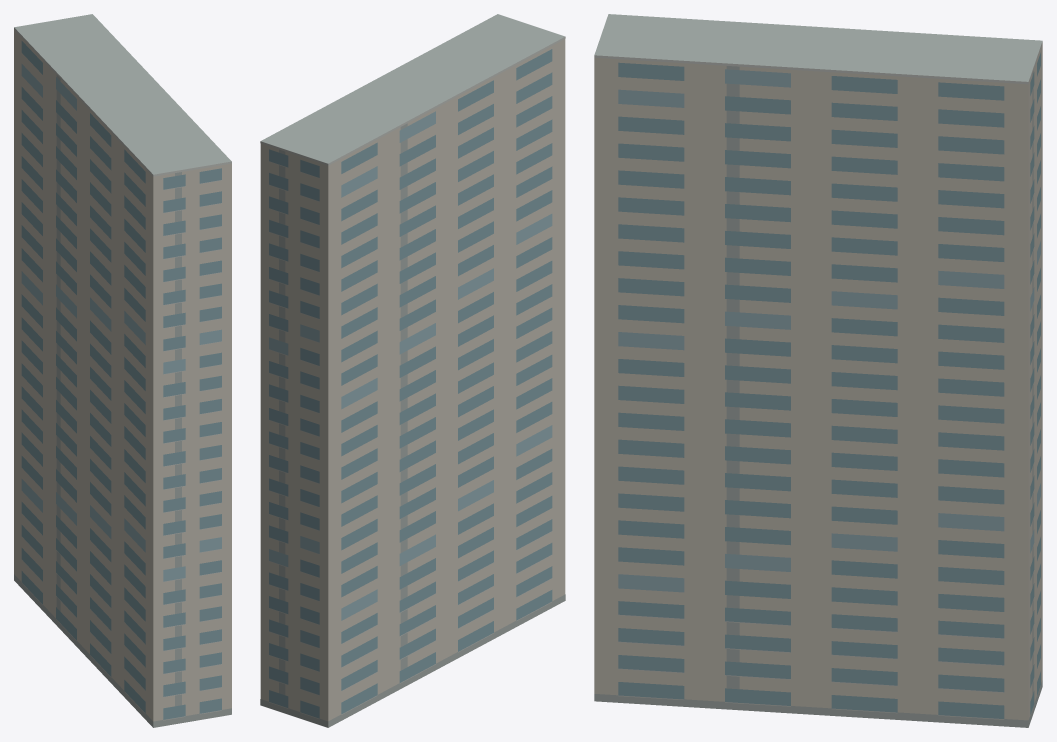
The model's file is residential-b6796cee-3461-4784-b0ec-e10e49c60d11.glb.
The picture shows the model from 3 angles, left to right: view 1: azimuth 30°, elevation 25°; view 2: azimuth 150°, elevation 25°; view 3: azimuth 270°, elevation 25°; orthographic projection. The views are drawn at different scales.
Parts seen in each view (by area): view 1: residential-b6796cee-3461-4784-b0ec-e10e49c60d11.tmp; view 2: residential-b6796cee-3461-4784-b0ec-e10e49c60d11.tmp; view 3: residential-b6796cee-3461-4784-b0ec-e10e49c60d11.tmp.
Boxes of the visible parts, x1,y1,x2,y2 form: residential-b6796cee-3461-4784-b0ec-e10e49c60d11.tmp: (14, 14, 231, 727); residential-b6796cee-3461-4784-b0ec-e10e49c60d11.tmp: (260, 14, 565, 727); residential-b6796cee-3461-4784-b0ec-e10e49c60d11.tmp: (594, 14, 1042, 727).
Bounding box in the file's own units: 14.67 × 65 × 40.9.
